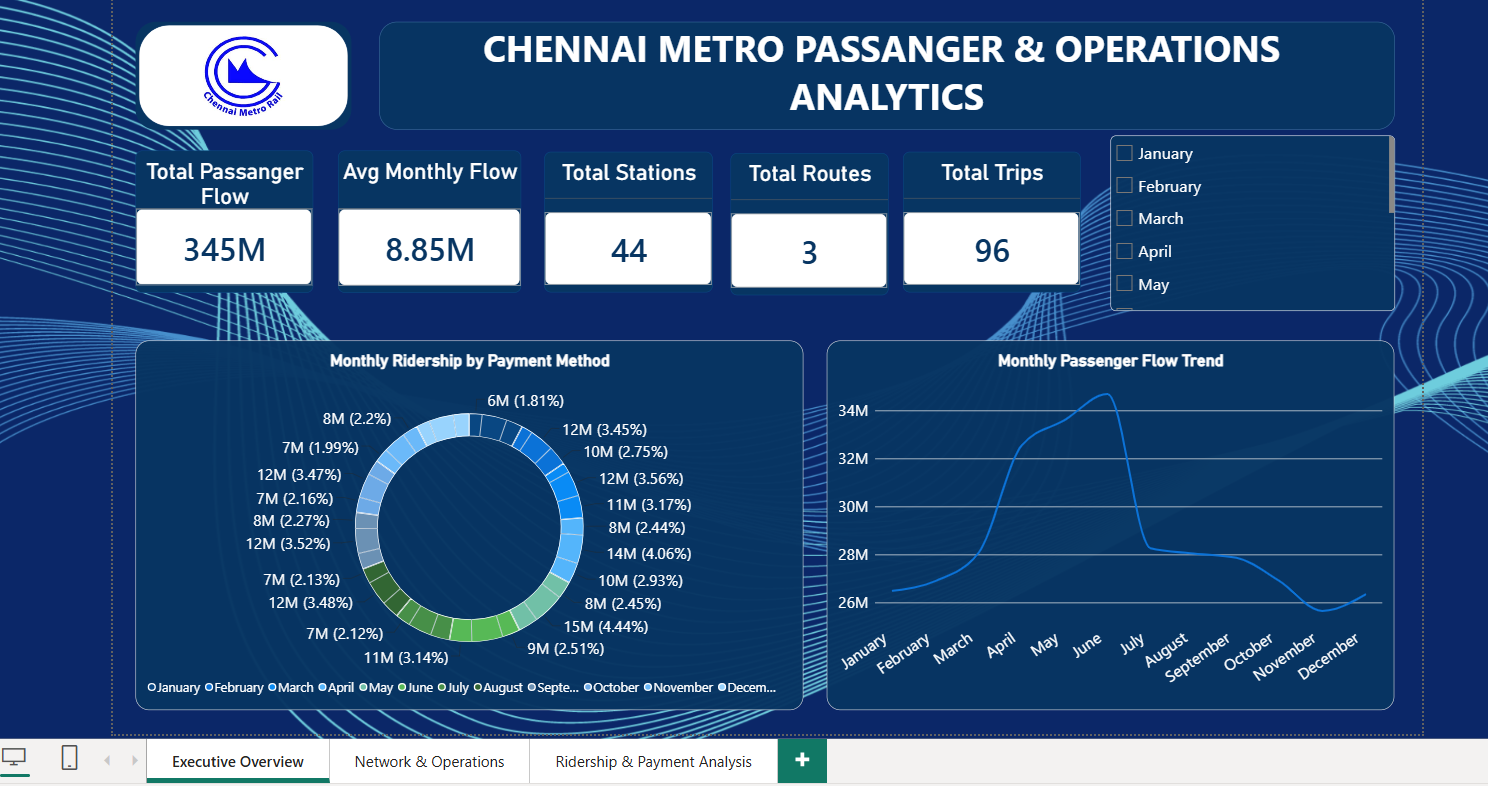

The page's visual inventory and layout, read from the dashboard file:
{"tool":"powerbi","page":{"name":"Executive Overview","canvas":[1920,1080],"ordinal":0},"visuals":[{"type":"cardVisual","title":"Total  Passanger Flow","fields":{"Data":["Measures_table.Total_passanger_flow"]},"box":[32.5,222.9,260.4,208.6],"z":0,"group":"g2"},{"type":"lineChart","title":"Monthly Passenger Flow Trend","fields":{"Category":["cmrl-metro-ridership-2023-26.Month.Variation.Date Hierarchy.Month"],"Y":["Sum(cmrl-metro-ridership-2023-26.Total Passenger Flow)"]},"box":[1047.5,502.5,832.5,542.5],"z":0},{"type":"cardVisual","title":" Avg Monthly Flow ","fields":{"Data":["Measures_table.Avg_Monthly_Passanger_Flow"]},"box":[330.3,222.9,269.1,208.6],"z":1000,"group":"g2"},{"type":"donutChart","title":"Monthly Ridership by Payment Method","fields":{"Category":["cmrl-metro-ridership-2023-26.Month.Variation.Date Hierarchy.Month"],"Y":["Measures_table.Tot_Closed_Loop_Ridership","Measures_table.Tot_QR_Ticket_Ridership","Measures_table.Tot_NCMC_Ridership"]},"box":[32.5,502.5,980,542.5],"z":1000},{"type":"group","id":"g1","title":"Group 2","box":[32.5,222.9,1387.2,212.1],"z":2000},{"type":"cardVisual","title":"Total Stations","fields":{"Data":["Measures_table.Total_station"]},"box":[632,224.2,247.4,206.1],"z":2000,"group":"g2"},{"type":"image","box":[32.5,34.6,317.1,158.5],"z":3000},{"type":"cardVisual","title":"Total Routes","fields":{"Data":["Measures_table.Total_Routes"]},"box":[905.8,226.4,232,208.6],"z":3000,"group":"g2"},{"type":"textbox","box":[390.2,34.1,1490.2,158.5],"z":4000},{"type":"cardVisual","title":"Total Trips","fields":{"Data":["Measures_table.Total_Trips"]},"box":[1159.3,224.2,260.4,206.1],"z":4000,"group":"g2"},{"type":"group","id":"g2","title":"Group 4","box":[32.5,222.9,1387.2,212.1],"z":4001,"group":"g4"},{"type":"group","id":"g3","title":"Group 3","box":[32.5,222.9,1387.2,212.1],"z":4002,"group":"g1"},{"type":"group","id":"g4","title":"Group 1","box":[32.5,222.9,1387.2,212.1],"z":4003,"group":"g3"},{"type":"slicer","title":"Select Month","fields":{"Values":["cmrl-metro-ridership-2023-26.Month.Variation.Date Hierarchy.Month"]},"box":[1463,201.3,417.7,257.5],"z":5000}]}

Visuals, with their boxes on the page's 1920x1080 design canvas (x1, y1, x2, y2). These are canvas units, not pixel positions in the 1488x786 screenshot, which may show the page scaled, cropped or inside an application window:
"Total  Passanger Flow" cardVisual: 32/223/293/432
"Monthly Passenger Flow Trend" lineChart: 1048/502/1880/1045
" Avg Monthly Flow " cardVisual: 330/223/599/432
"Monthly Ridership by Payment Method" donutChart: 32/502/1012/1045
"Group 2" group: 32/223/1420/435
"Total Stations" cardVisual: 632/224/879/430
image: 32/35/350/193
"Total Routes" cardVisual: 906/226/1138/435
textbox: 390/34/1880/193
"Total Trips" cardVisual: 1159/224/1420/430
"Group 4" group: 32/223/1420/435
"Group 3" group: 32/223/1420/435
"Group 1" group: 32/223/1420/435
"Select Month" slicer: 1463/201/1881/459
